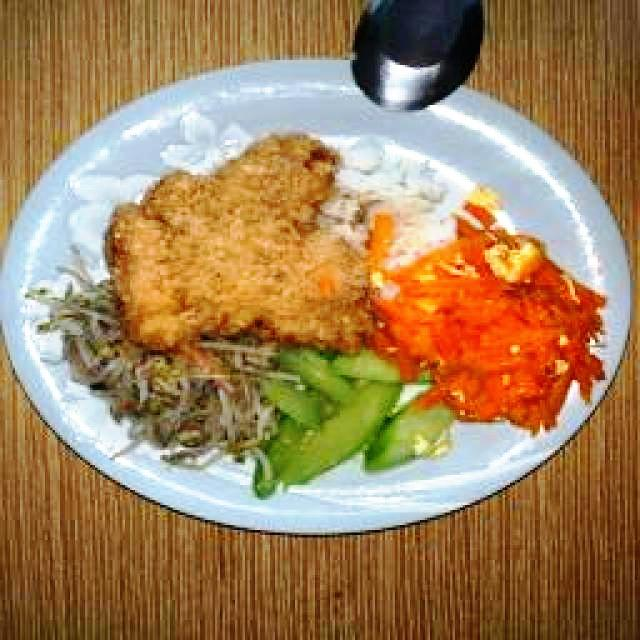carrot_eggs: (367, 189, 608, 436)
fried_chicken: (103, 129, 376, 354)
